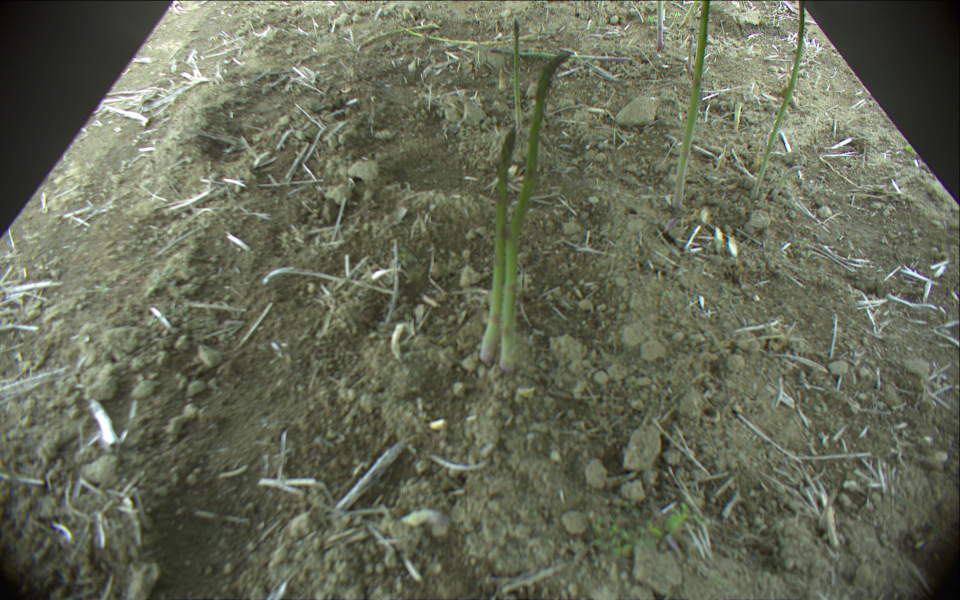aspa: (499, 51, 575, 374), (752, 1, 806, 196), (479, 127, 517, 366), (674, 1, 711, 207), (357, 20, 440, 50), (489, 45, 631, 61), (404, 29, 541, 43), (512, 18, 523, 128), (678, 1, 698, 29), (655, 1, 665, 51)
